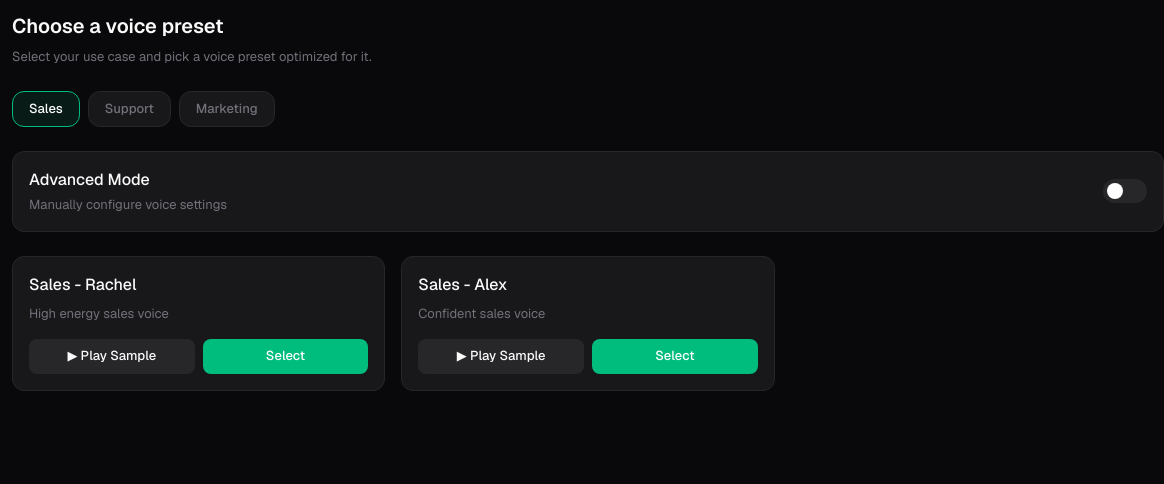
VoicePresetSelector Audio Player (AC2 - Audio Sample Playback) › [2.6-FRONTEND-AC2-003][P2] Error Handling › should display error when TTS provider fails
The width and height of the screenshot is (1164, 484).
Expected: the heading "Sales - Rachel" is shown, 29,274 -> 136,295
Click the button labelled "▶ Play Sample" below "High energy sales voice": (112, 357) 29,339 -> 195,374
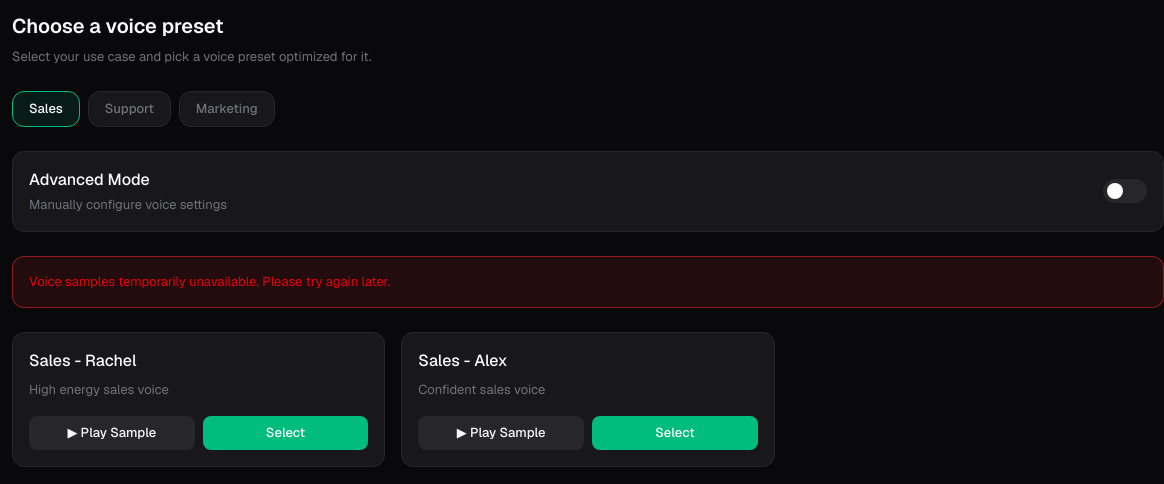
Expected: the text "temporarily unavailable" is shown, 29,273 -> 390,290
